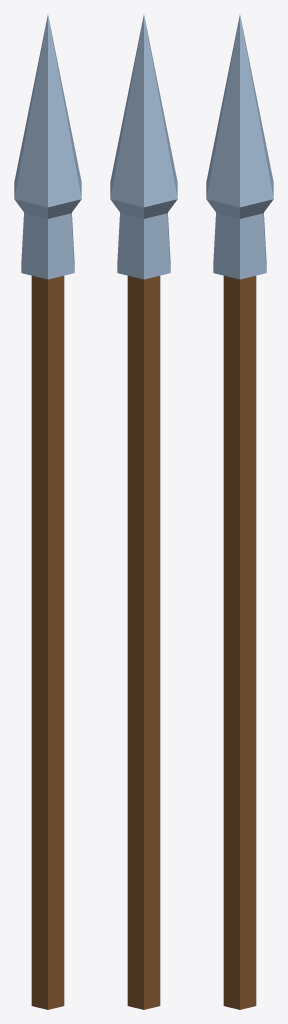
File: spear.fbx
3 views of the same model, side by side, from view 1: azimuth 90°, elevation 25°; view 2: azimuth 150°, elevation 25°; view 3: azimuth 270°, elevation 25° (orthographic).
Visible parts, largest first — view 1: Weapon052.001; view 2: Weapon052.001; view 3: Weapon052.001.
Boxes of the visible parts, x1,y1,x2,y2 form: Weapon052.001: [14, 15, 81, 1009]; Weapon052.001: [110, 15, 177, 1009]; Weapon052.001: [206, 15, 273, 1009].
Size of the model in its own units: 16.61 by 232 by 14.39.
